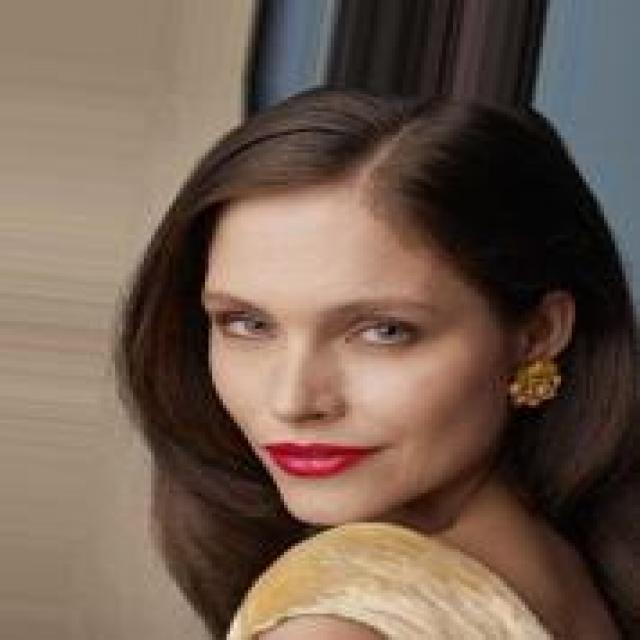nomask: (154, 41, 600, 540)
